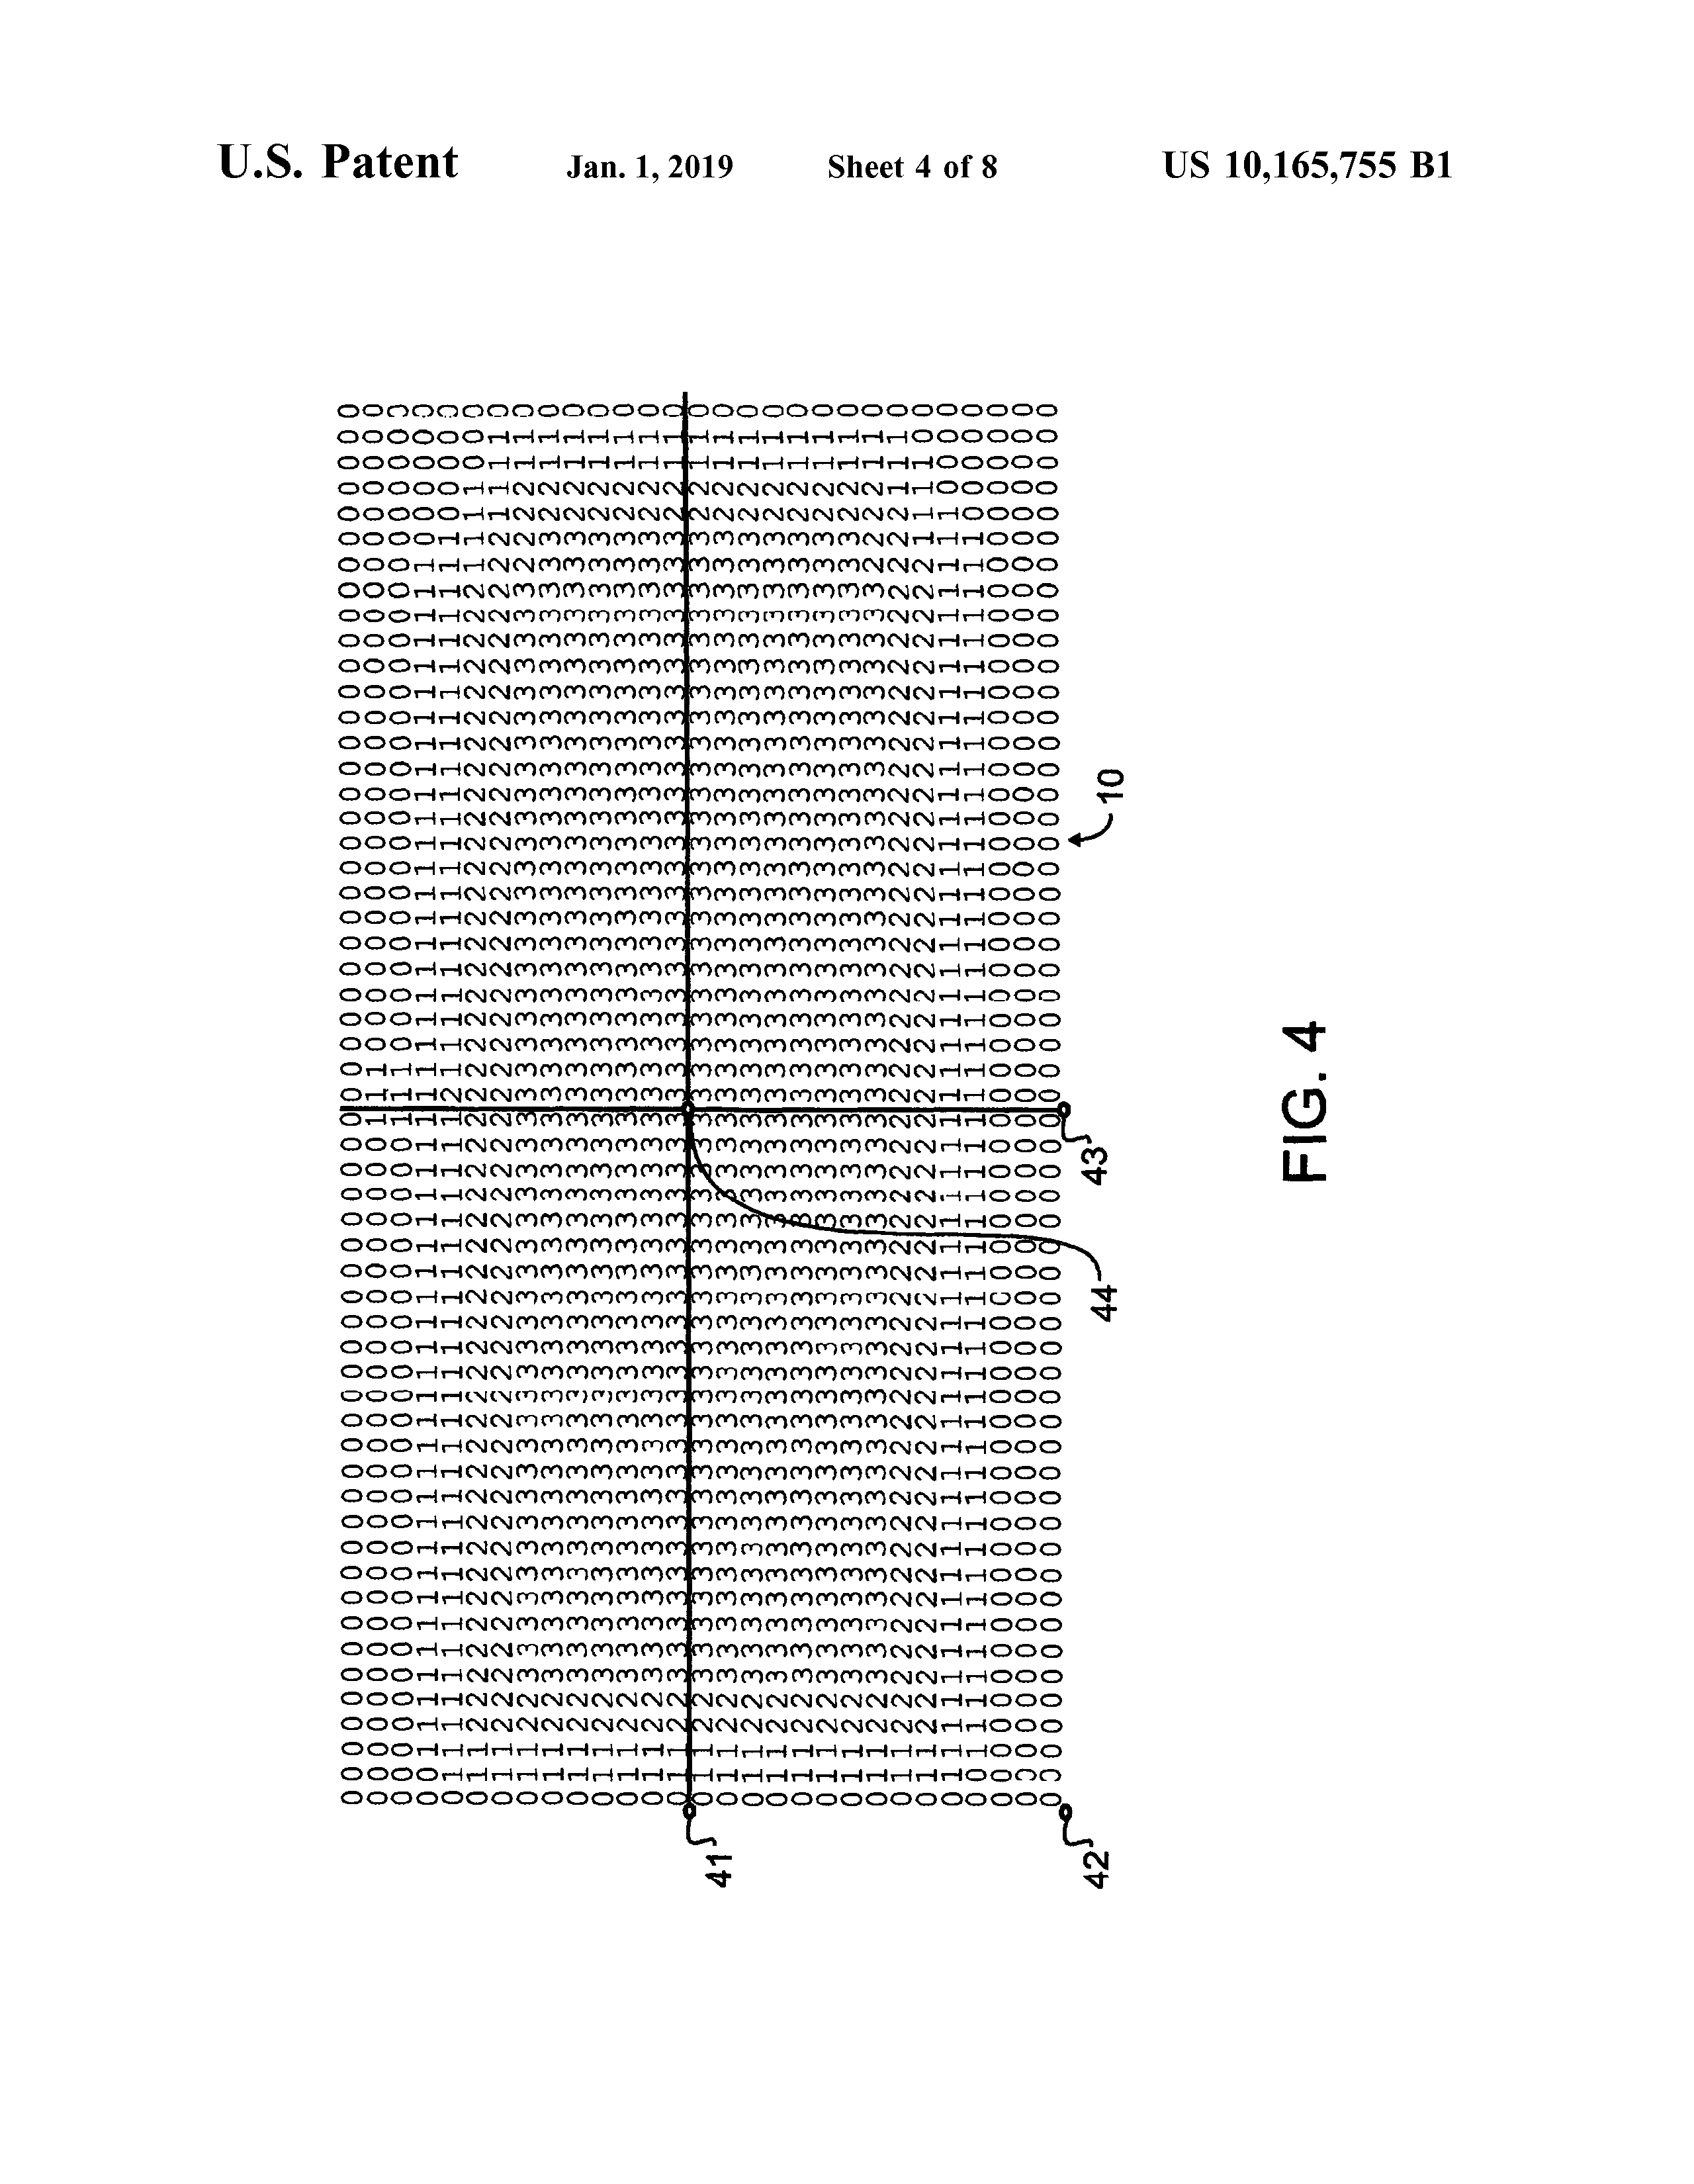patent image: (300, 334, 1361, 1979)
